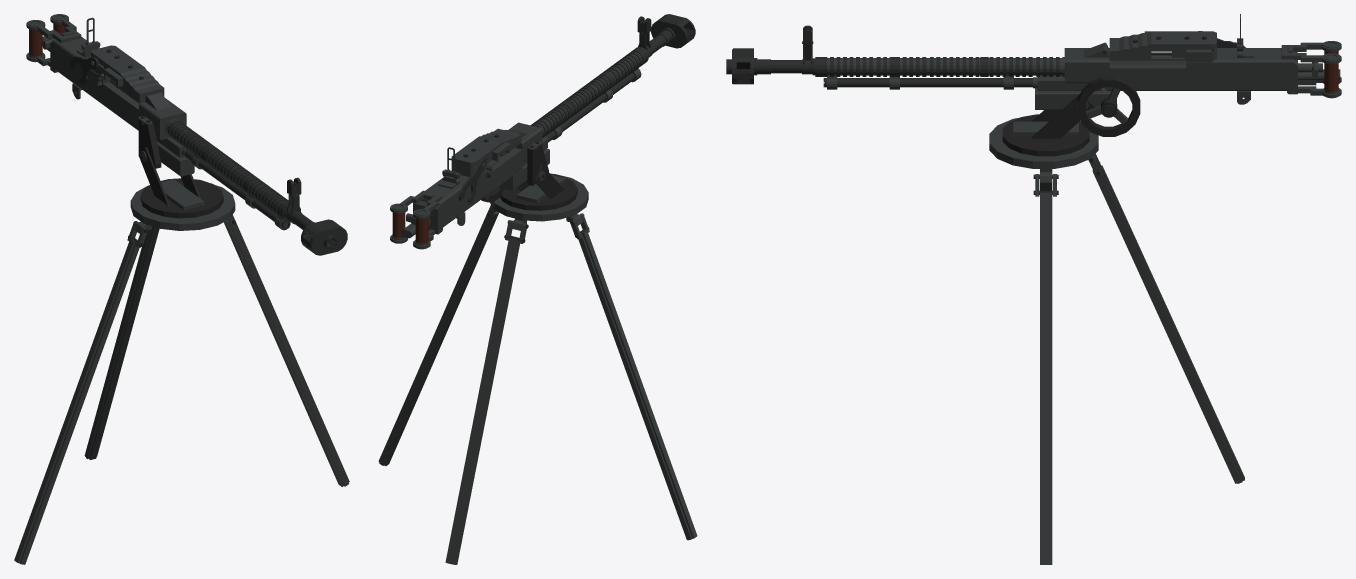
Rendered from dshk.glb.
The picture shows the model from 3 angles, left to right: view 1: azimuth 30°, elevation 25°; view 2: azimuth 150°, elevation 25°; view 3: azimuth 270°, elevation 25°; orthographic projection. The views are drawn at different scales.
Visible parts, largest first — view 1: Object_3, Object_5, Object_7, Object_2; view 2: Object_3, Object_5, Object_7, Object_2; view 3: Object_3, Object_5, Object_7.
Boxes of the visible parts, x1,y1,x2,y2 form: Object_3: (14, 14, 349, 564); Object_5: (70, 56, 347, 255); Object_7: (106, 49, 331, 247); Object_2: (29, 23, 65, 56); Object_3: (378, 31, 697, 564); Object_5: (458, 14, 695, 202); Object_7: (463, 28, 693, 242); Object_2: (392, 212, 428, 243); Object_3: (802, 14, 1341, 564); Object_5: (726, 25, 1245, 115); Object_7: (736, 36, 1206, 194).
Size of the model in its own units: 9.68 by 12.24 by 14.6.
